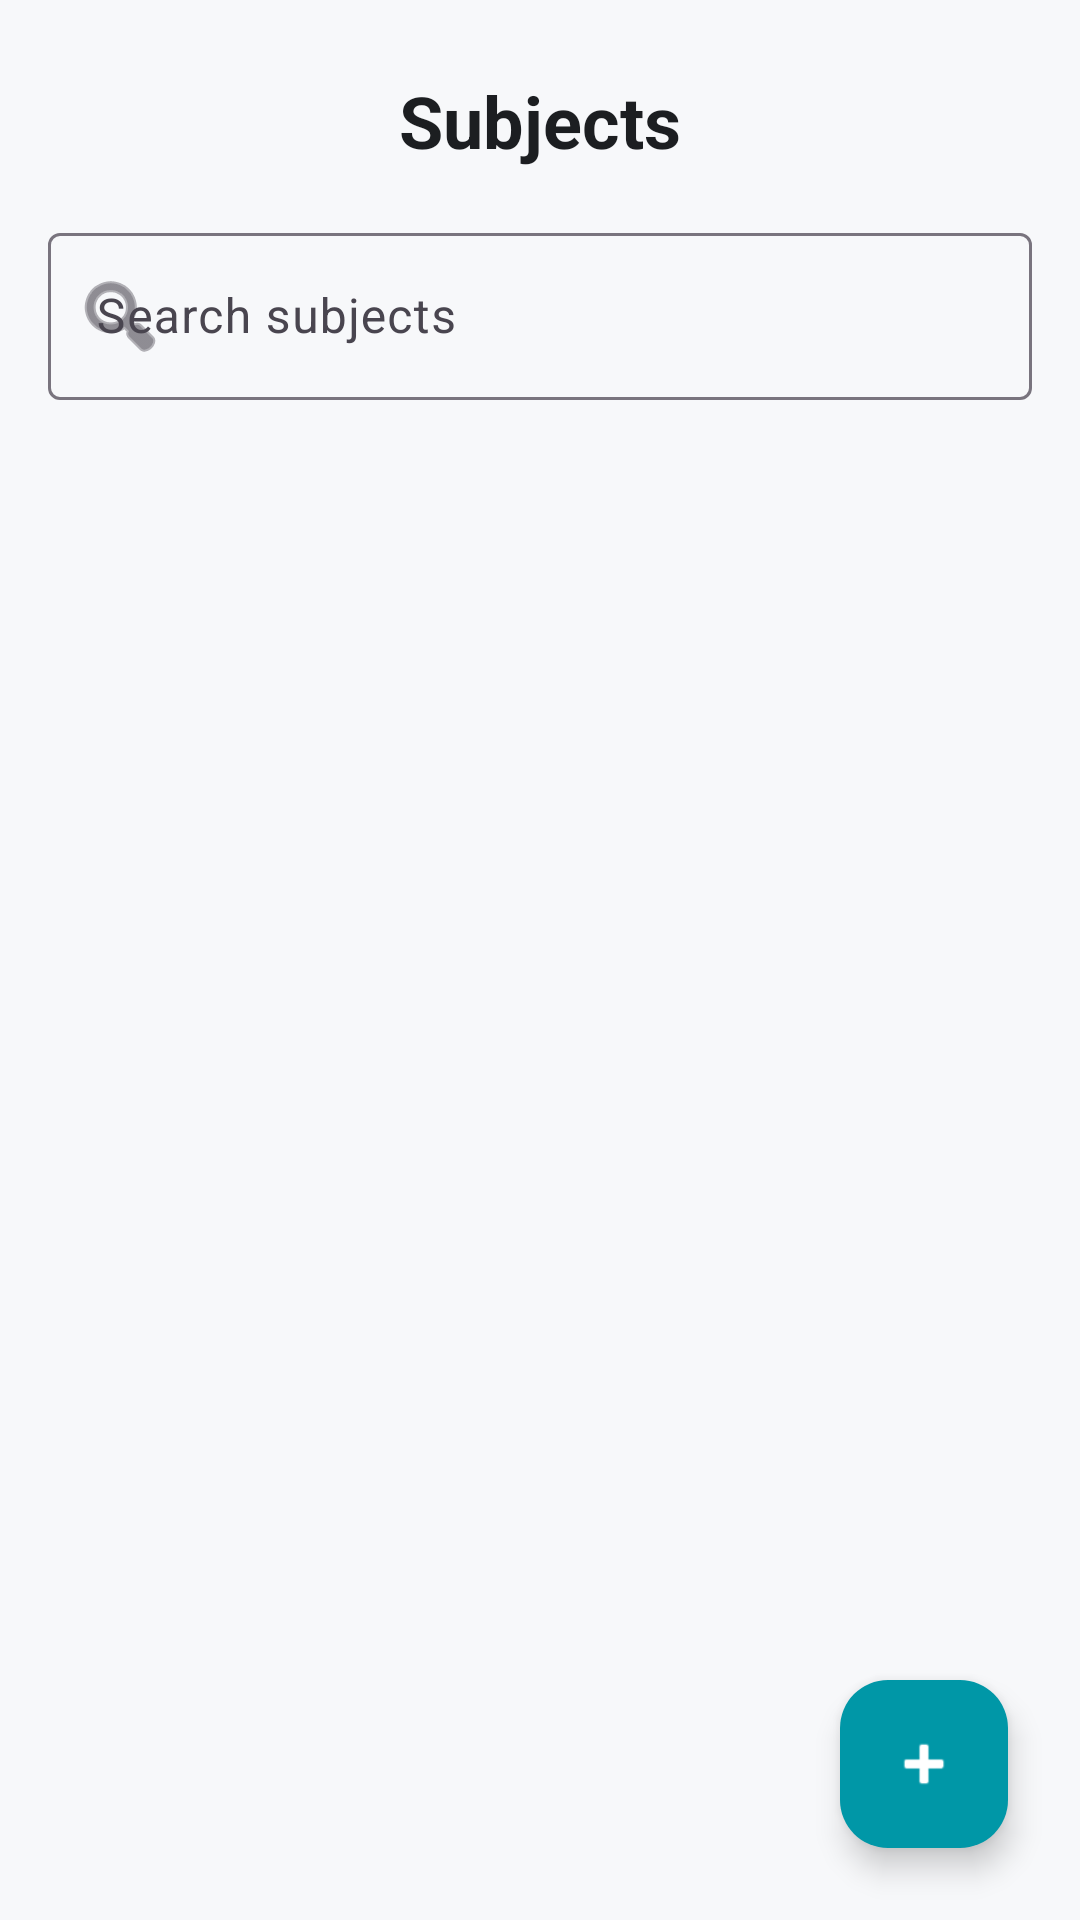

Icons on this 1080 × 1920 Android screen, each with its box as (x1, y1, x2, y2):
Add Subject: (840, 1680, 1008, 1848)
